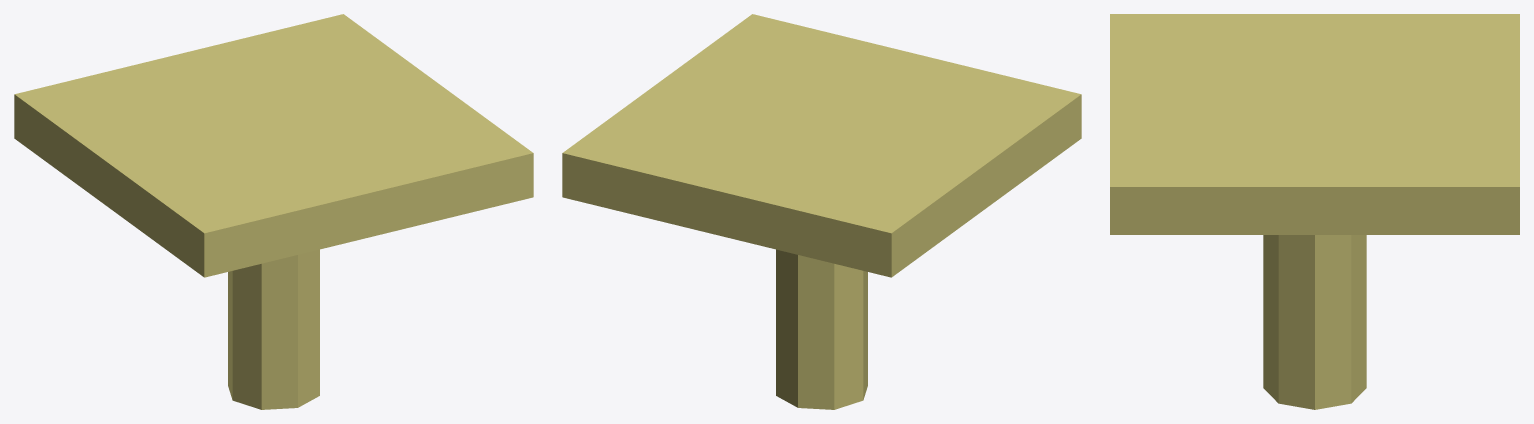
File: table.dae
The picture shows the model from 3 angles, left to right: view 1: azimuth 30°, elevation 25°; view 2: azimuth 150°, elevation 25°; view 3: azimuth 270°, elevation 25°; orthographic projection. The views are drawn at different scales.
Parts seen in each view (by area): view 1: Cube_012; view 2: Cube_012; view 3: Cube_012.
Boxes of the visible parts, x1,y1,x2,y2 form: Cube_012: (14,14,533,409); Cube_012: (562,14,1081,409); Cube_012: (1110,14,1519,409).
Bounding box in the file's own units: 2 × 2 × 1.55.
